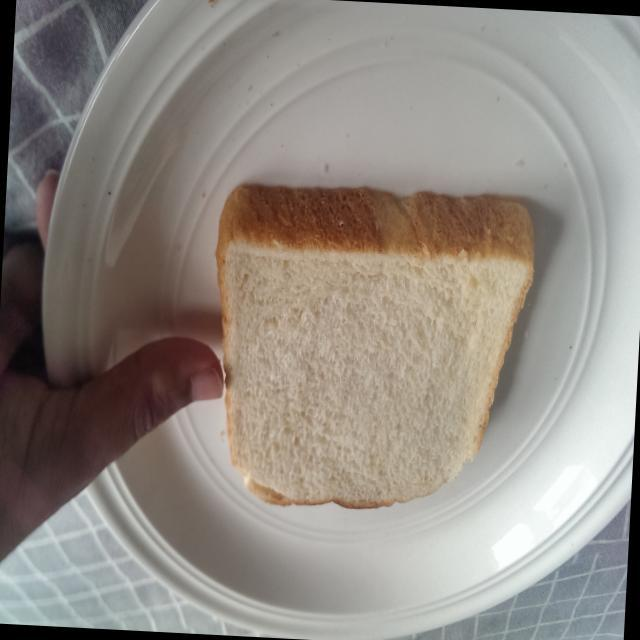Bread: (194, 164, 548, 525)
Finger: (117, 323, 230, 470)
